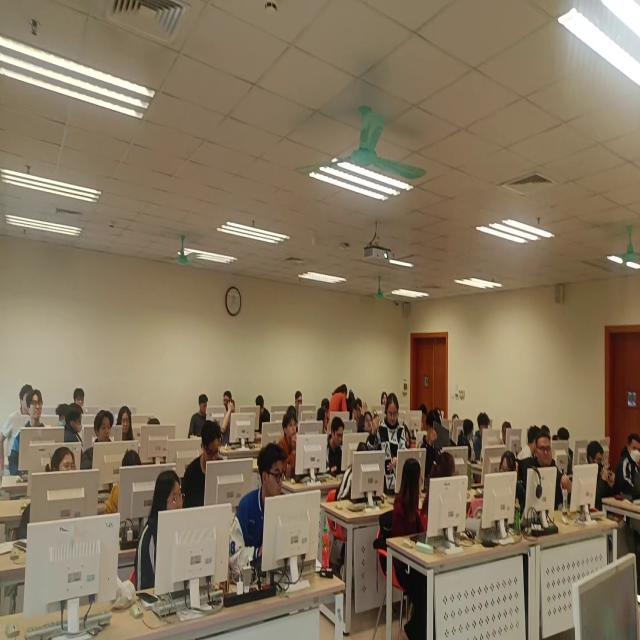raise_head: (233, 444, 313, 590), (139, 475, 200, 605), (526, 430, 577, 531), (47, 444, 90, 525), (19, 389, 58, 477), (277, 411, 314, 482), (585, 439, 616, 521), (89, 410, 123, 484), (117, 399, 144, 466), (619, 423, 640, 507), (356, 406, 386, 464), (68, 382, 95, 421)
stand: (378, 393, 412, 502)
using_computer: (193, 430, 249, 516), (327, 420, 369, 483), (190, 390, 227, 443), (472, 406, 503, 468), (224, 397, 258, 450)
